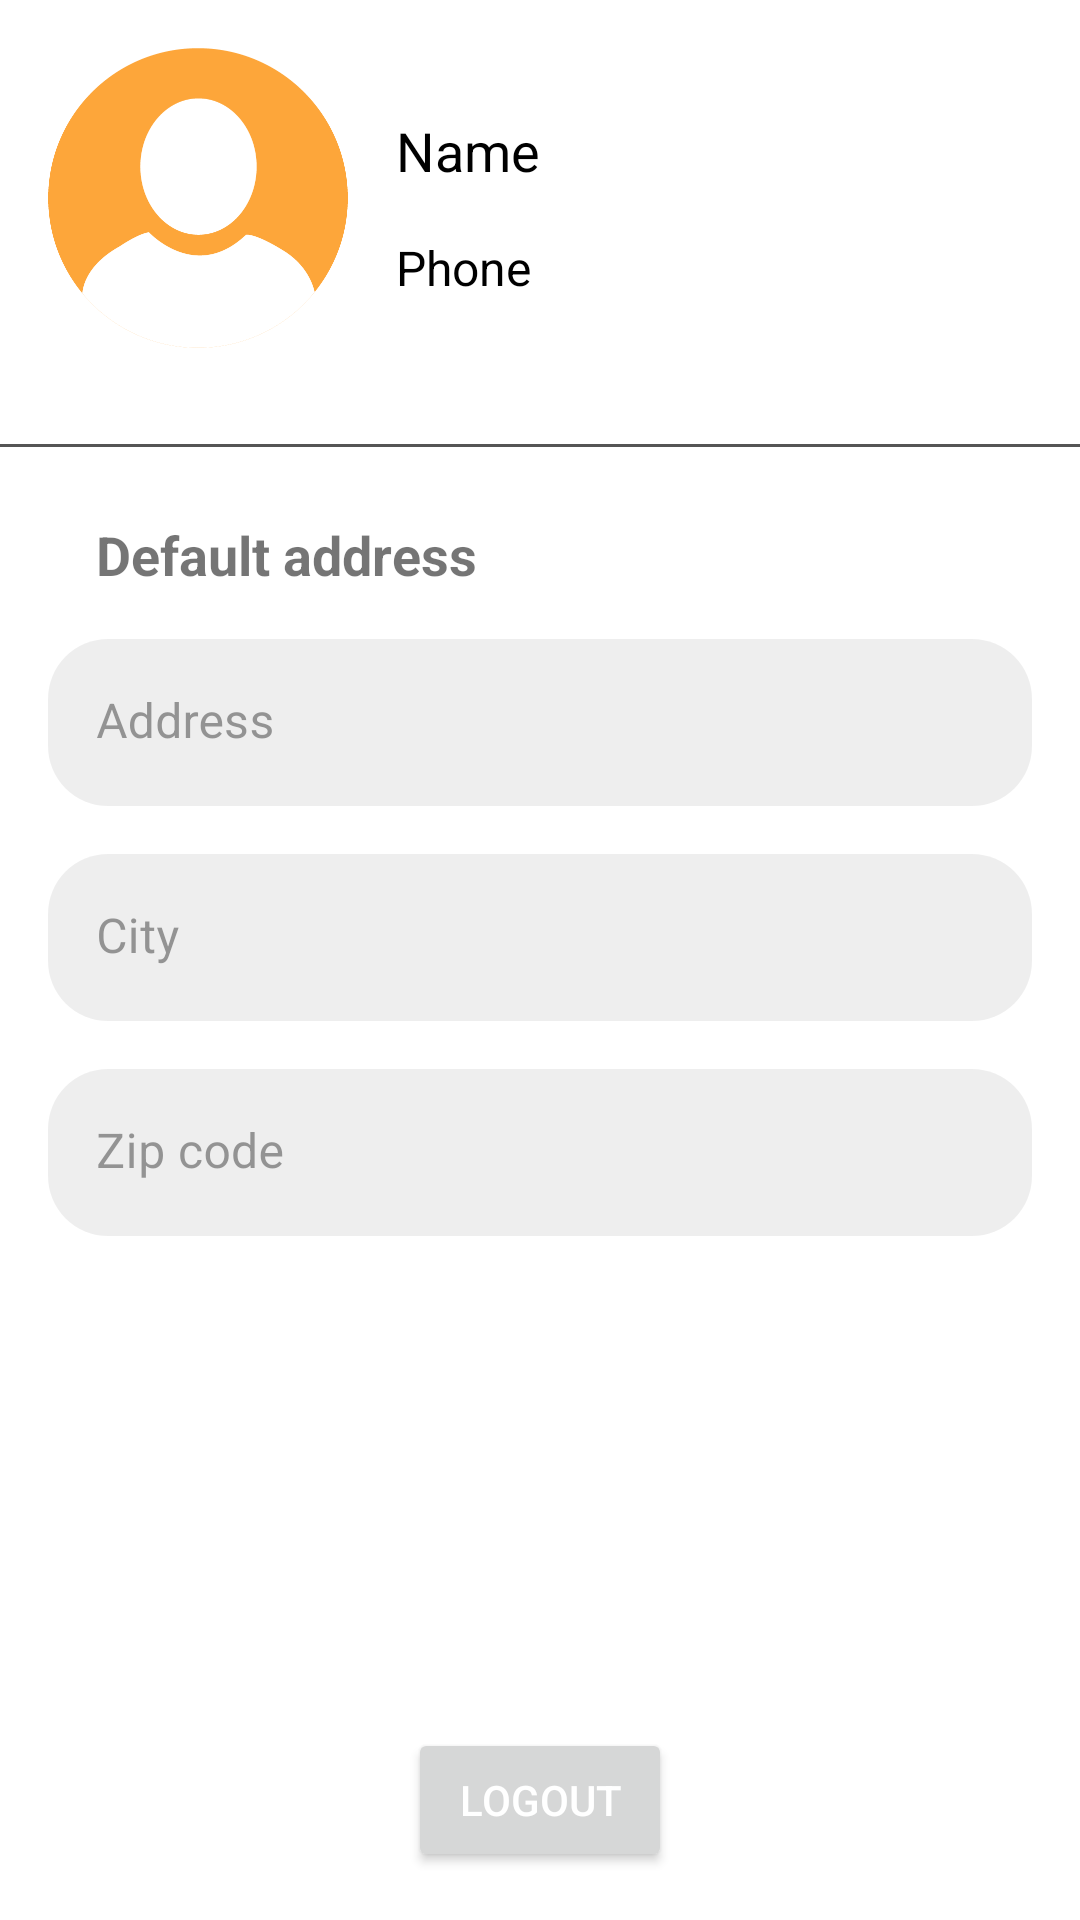

Named icons in this screenshot (1080x1920) and their bounding boxes, (x1, y1, x2, y2):
profile: (48, 48, 348, 348)
